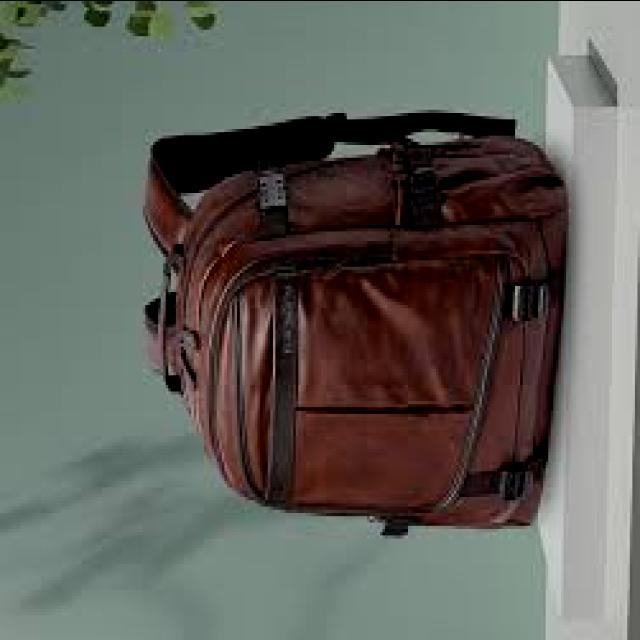backpack: (141, 113, 567, 539)
